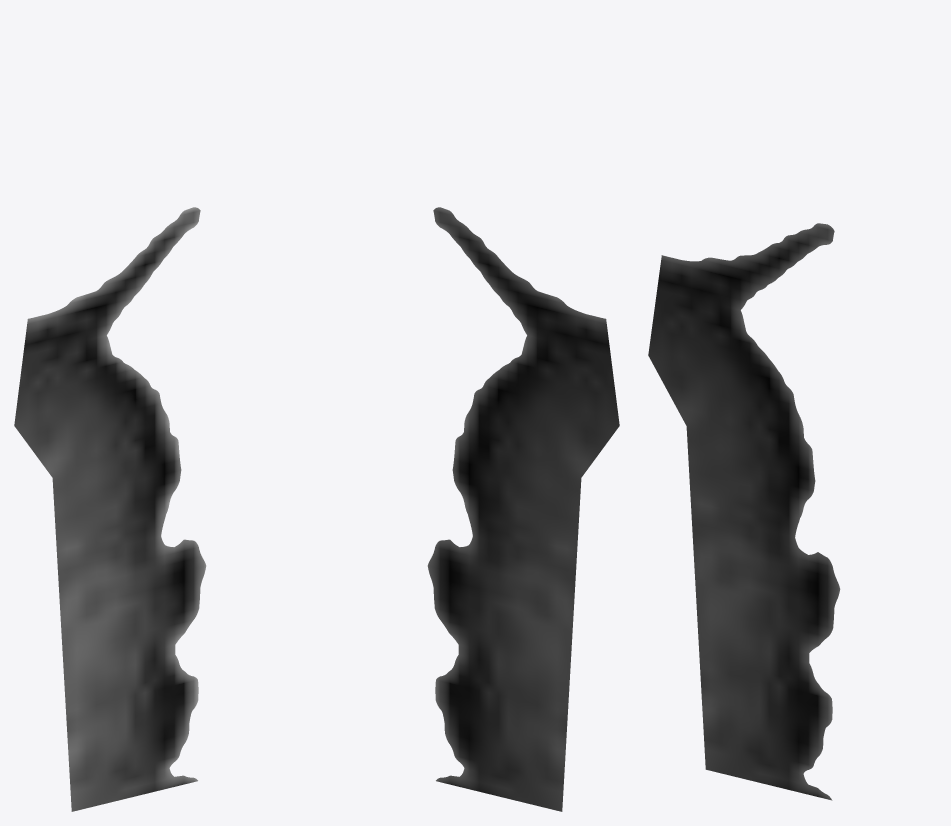
The model's file is ydb03.FBX.
3 renders of one model, left to right at view 1: azimuth 30°, elevation 25°; view 2: azimuth 150°, elevation 25°; view 3: azimuth 330°, elevation 25°, orthographic.
Parts seen in each view (by area): view 1: Object01; view 2: Object01; view 3: Object01.
Boxes of the visible parts, x1,y1,x2,y2 form: Object01: (14,207,206,811); Object01: (427,207,619,811); Object01: (648,223,840,800).
Size of the model in its own units: 18.71 by 3.6e-06 by 48.15.
